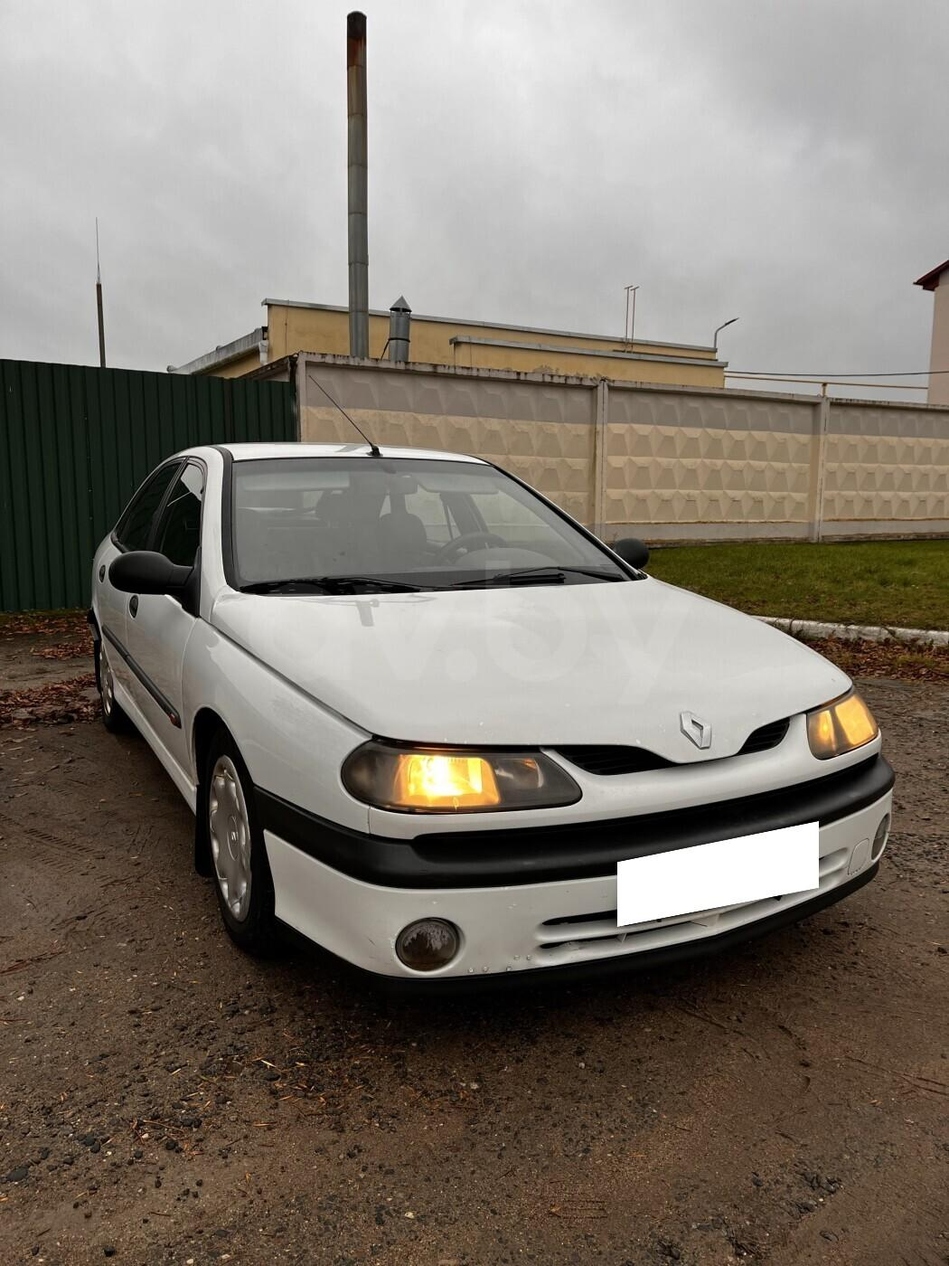Laguna_1998-2001: (89, 432, 902, 1006)
